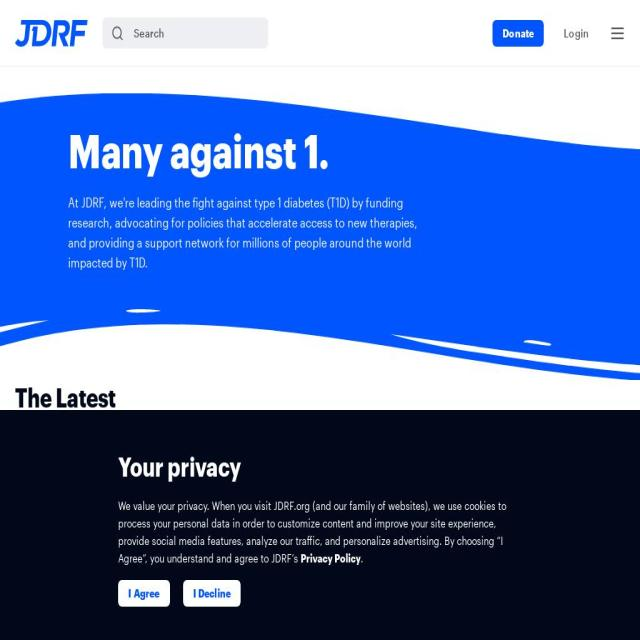button: (15, 441, 419, 640), (0, 0, 86, 27), (15, 19, 88, 47), (182, 580, 242, 607), (492, 19, 544, 47), (118, 580, 170, 607), (558, 17, 594, 48), (610, 22, 625, 44)
field: (102, 17, 268, 48), (102, 48, 148, 68)
heading: (68, 150, 419, 309), (15, 380, 625, 416), (428, 467, 625, 568), (118, 450, 522, 483)
image: (15, 441, 419, 640), (0, 309, 640, 382), (0, 92, 640, 150), (15, 19, 88, 47), (610, 22, 625, 44), (112, 24, 125, 42)
label: (103, 17, 133, 35)
link: (301, 551, 361, 565)
text: (68, 192, 419, 274), (118, 498, 507, 565), (428, 580, 625, 640), (0, 22, 116, 38), (361, 551, 364, 565)
